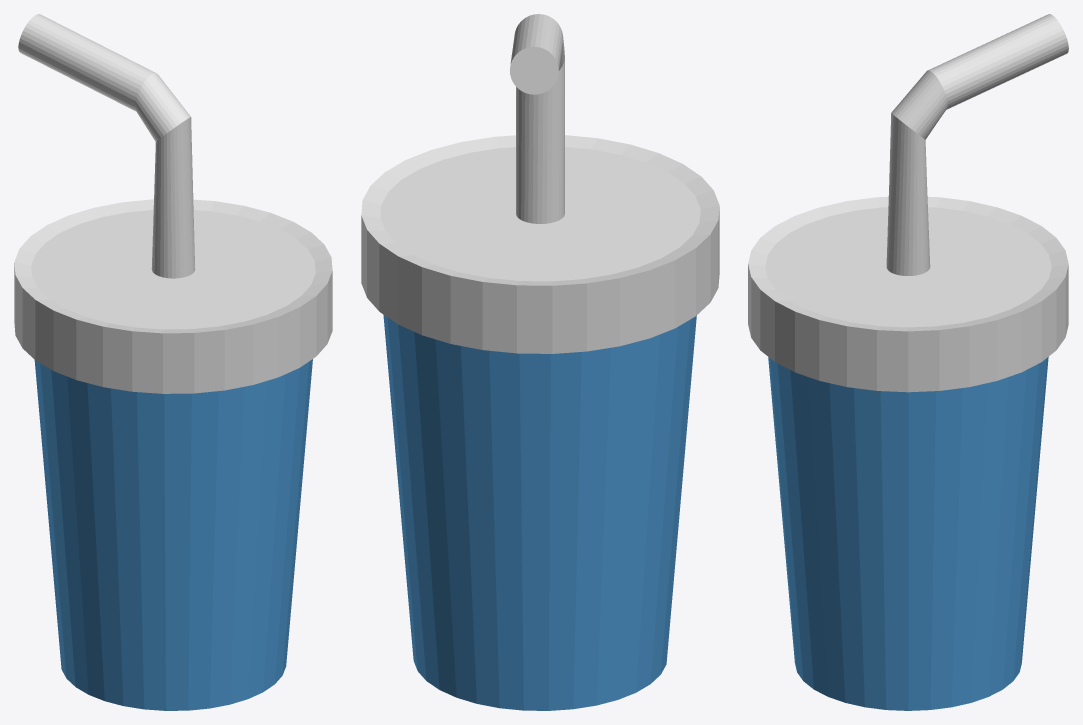
Rendered from cup.fbx.
3 views of the same model, side by side, from view 1: azimuth 30°, elevation 25°; view 2: azimuth 150°, elevation 25°; view 3: azimuth 270°, elevation 25° (orthographic). The views are drawn at different scales.
Parts seen in each view (by area): view 1: Cylinder; view 2: Cylinder; view 3: Cylinder.
Boxes of the visible parts, box(x1,y1,x2,y2) form: Cylinder: box(14, 14, 332, 710); Cylinder: box(361, 14, 719, 710); Cylinder: box(748, 14, 1068, 710).
Bounding box in the file's own units: 224 × 473 × 224.
